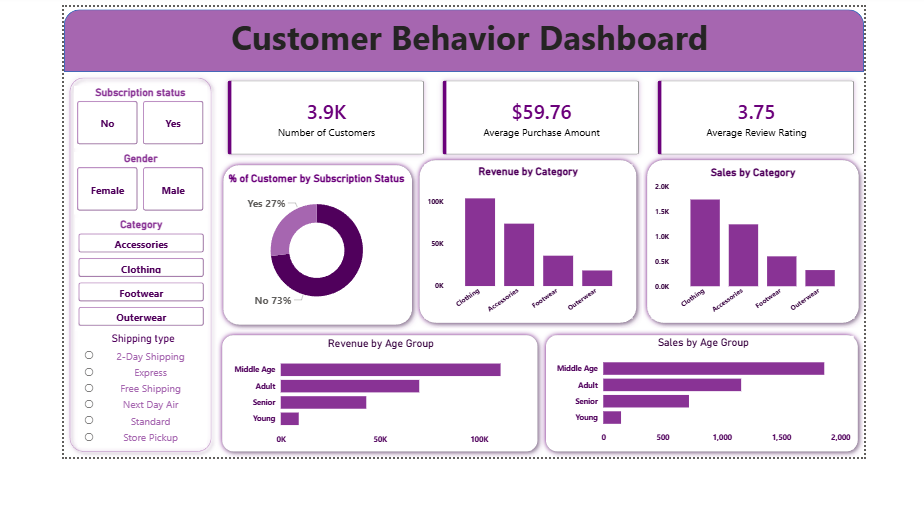

The dashboard page shown, as its layout file describes it:
{"tool":"powerbi","page":{"name":"Page 1","canvas":[1280,720],"ordinal":0},"visuals":[{"type":"cardVisual","fields":{"Data":["public customers.Number of Customers","public customers.Average Purchase Amount","public customers.Average Review Rating"]},"box":[245,101.7,1035,150],"z":0},{"type":"shape","box":[0,3.3,1280,100],"z":1},{"type":"textbox","box":[37.5,5,1222.5,95],"z":2},{"type":"shape","box":[245,243.3,320,273.3],"z":3},{"type":"donutChart","title":"% of Customer by Subscription Status","fields":{"Category":["public customers.subscription_status"],"Y":["CountNonNull(public customers.customer_id)"]},"box":[258.3,263.3,293.3,231.7],"z":4},{"type":"shape","box":[560,236.7,365,278.3],"z":6},{"type":"shape","box":[923.3,236.7,356.7,278.3],"z":7},{"type":"clusteredColumnChart","title":"Revenue by Category","fields":{"Category":["public customers.category"],"Y":["Sum(public customers.purchase_amount)"]},"box":[575,251.7,333.3,246.7],"z":8},{"type":"clusteredColumnChart","title":"Sales by Category","fields":{"Category":["public customers.category"],"Y":["CountNonNull(public customers.customer_id)"]},"box":[940,253.3,325,245],"z":9},{"type":"shape","box":[0,103.3,245,616.7],"z":10},{"type":"advancedSlicerVisual","fields":{"Values":["public customers.subscription_status"]},"box":[16.2,126.2,212.5,100],"z":11},{"type":"advancedSlicerVisual","fields":{"Values":["public customers.gender"]},"box":[16.2,231.2,213.8,100],"z":12},{"type":"advancedSlicerVisual","fields":{"Values":["public customers.category"]},"box":[18.8,337.5,211.2,180],"z":13},{"type":"listSlicer","fields":{"Values":["public customers.shipping_type"]},"box":[21.2,518.8,206.2,186.2],"z":14},{"type":"shape","box":[244.3,515.7,522.9,204.3],"z":16},{"type":"shape","box":[762.9,515.7,517.1,204.3],"z":17},{"type":"clusteredBarChart","title":"Revenue by Age Group","fields":{"Y":["Sum(public customers.purchase_amount)"],"Category":["public customers.age_group"]},"box":[265.7,528.6,481.4,181.4],"z":18},{"type":"clusteredBarChart","title":"Sales by Age Group","fields":{"Y":["CountNonNull(public customers.customer_id)"],"Category":["public customers.age_group"]},"box":[782.9,525.7,481.4,181.4],"z":19}]}

Visuals, with their boxes in screenshot pixels (x1, y1, x2, y2), scaled from the page's 1280x720 canvas onto the 924x520 screenshot:
cardVisual - public customers.Number of Customers x public customers.Average Purchase Amount: rect(177, 73, 923, 182)
shape: rect(0, 2, 923, 75)
textbox: rect(27, 4, 910, 72)
shape: rect(177, 176, 408, 373)
"% of Customer by Subscription Status" donutChart: rect(186, 190, 398, 358)
shape: rect(404, 171, 668, 372)
shape: rect(667, 171, 923, 372)
"Revenue by Category" clusteredColumnChart: rect(415, 182, 656, 360)
"Sales by Category" clusteredColumnChart: rect(679, 183, 913, 360)
shape: rect(0, 75, 177, 519)
advancedSlicerVisual - public customers.subscription_status: rect(12, 91, 165, 163)
advancedSlicerVisual - public customers.gender: rect(12, 167, 166, 239)
advancedSlicerVisual - public customers.category: rect(14, 244, 166, 374)
listSlicer - public customers.shipping_type: rect(15, 375, 164, 509)
shape: rect(176, 372, 554, 519)
shape: rect(551, 372, 923, 519)
"Revenue by Age Group" clusteredBarChart: rect(192, 382, 539, 513)
"Sales by Age Group" clusteredBarChart: rect(565, 380, 913, 511)
